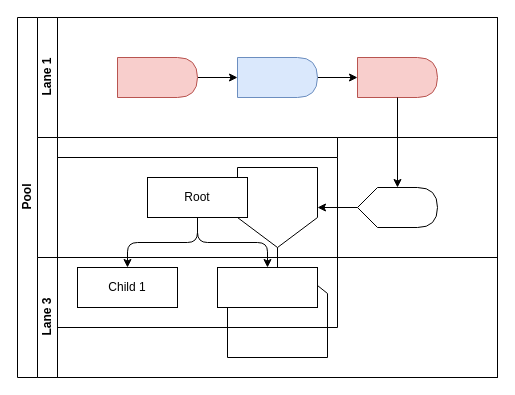
Image size: 515x395. Some labels were removed from this diagram. Each missing label, with the box of its shape:
Child 2: (216, 266, 318, 308)
Lane 2: (36, 136, 498, 258)
Vertical Tree Layout: (56, 136, 338, 328)
